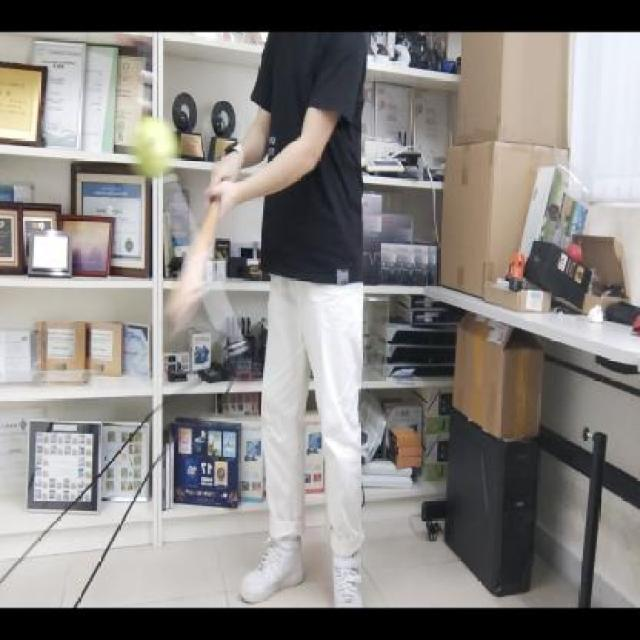baseball: (130, 114, 179, 180)
